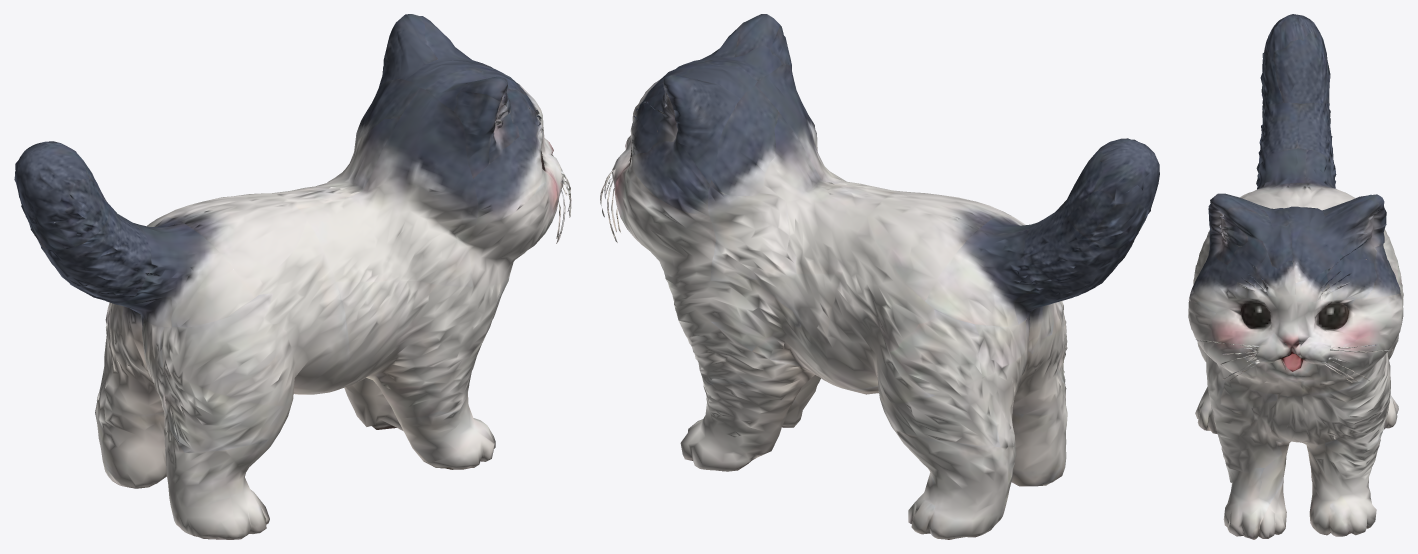
Rendered from HACHIWA-lo.glb.
3 views of the same model, side by side, from view 1: azimuth 30°, elevation 25°; view 2: azimuth 150°, elevation 25°; view 3: azimuth 270°, elevation 25° (orthographic). The views are drawn at different scales.
Parts seen in each view (by area): view 1: tripo_node_84a224aa-b64e-4b87-8ac6-05e588632769; view 2: tripo_node_84a224aa-b64e-4b87-8ac6-05e588632769; view 3: tripo_node_84a224aa-b64e-4b87-8ac6-05e588632769.
Boxes of the visible parts, x1=… form: tripo_node_84a224aa-b64e-4b87-8ac6-05e588632769: x1=14, y1=14, x2=571, y2=539; tripo_node_84a224aa-b64e-4b87-8ac6-05e588632769: x1=600, y1=14, x2=1159, y2=539; tripo_node_84a224aa-b64e-4b87-8ac6-05e588632769: x1=1188, y1=14, x2=1403, y2=539.
Bounding box in the file's own units: 1.41 × 0.9964 × 0.5639.
Materials: 1 (1 with a texture image).
